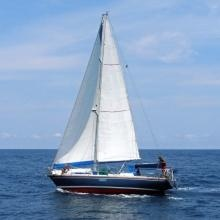fanchuan: (42, 14, 180, 196)
